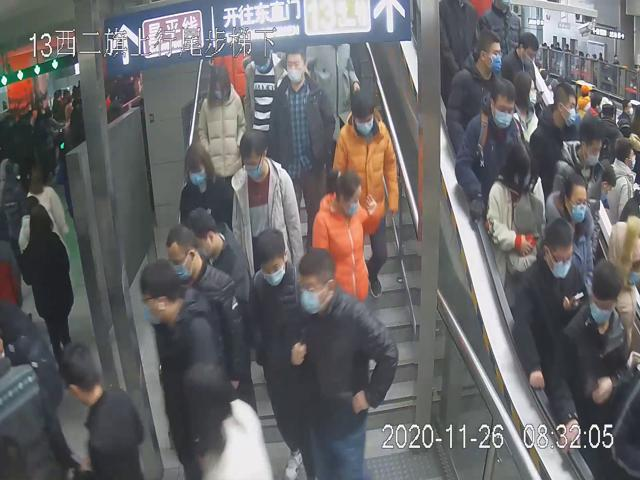person: (284, 245, 399, 480), (139, 260, 229, 480), (246, 228, 307, 480), (165, 226, 248, 408), (332, 84, 401, 302), (511, 215, 590, 399), (267, 45, 333, 232), (454, 76, 528, 228), (230, 130, 303, 277), (308, 170, 379, 306), (186, 209, 249, 315), (195, 61, 246, 188), (179, 144, 232, 237)
